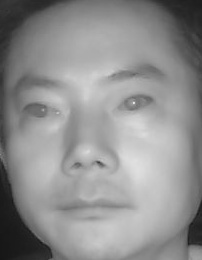eye: (21, 97, 65, 123), (115, 94, 156, 115)
mouth: (52, 184, 135, 226)
